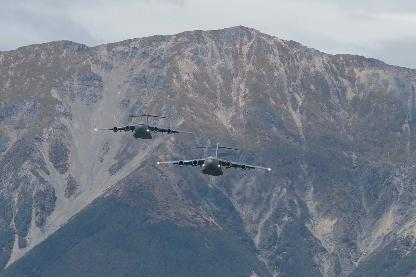C2: (156, 142, 270, 175), (94, 112, 192, 138)
